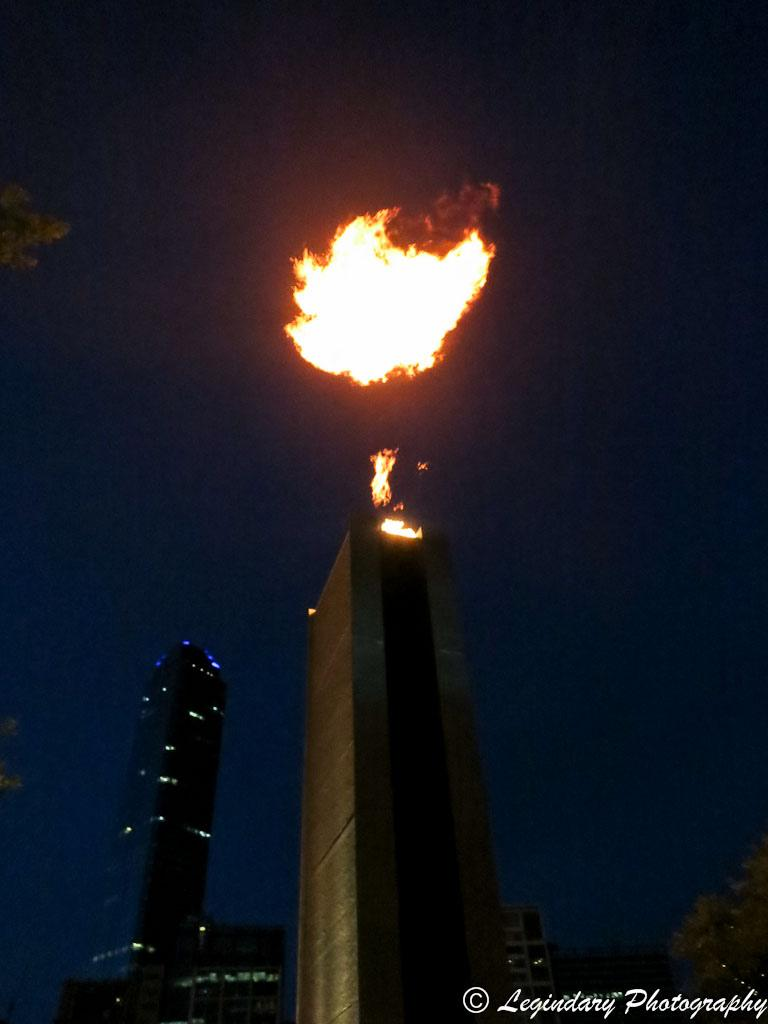fire: (312, 255, 448, 358)
